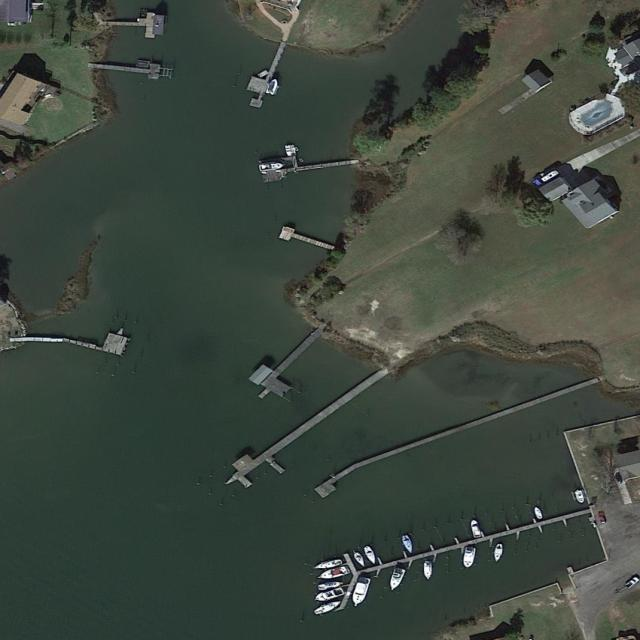ship: (347, 576, 373, 610), (314, 563, 352, 582), (312, 585, 347, 604), (310, 554, 346, 572), (311, 598, 345, 616), (386, 566, 408, 592), (460, 545, 480, 570), (361, 545, 381, 568), (398, 533, 418, 556), (258, 159, 288, 173), (315, 578, 345, 592), (265, 77, 284, 97), (467, 519, 485, 539), (491, 542, 505, 565), (529, 504, 547, 521), (421, 560, 434, 582), (352, 550, 367, 569), (541, 169, 559, 183), (572, 490, 587, 505), (283, 144, 294, 156)
small-vehicle: (624, 576, 640, 589), (614, 473, 624, 486), (599, 510, 608, 524)
